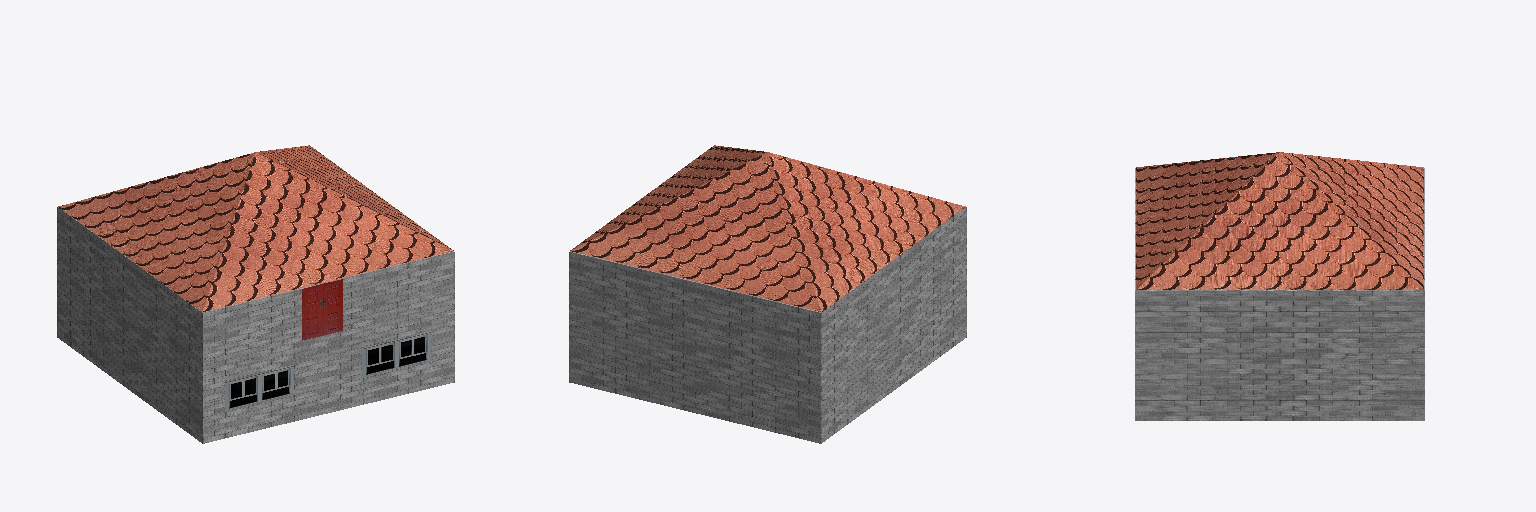
3 views of the same model, side by side, from view 1: azimuth 30°, elevation 25°; view 2: azimuth 150°, elevation 25°; view 3: azimuth 270°, elevation 25° (orthographic).
Visible parts, largest first — view 1: Box001, Pyramid001; view 2: Box001, Pyramid001; view 3: Box001, Pyramid001.
Boxes of the visible parts, x1,y1,x2,y2 form: Box001: [57, 206, 454, 443]; Pyramid001: [59, 145, 453, 311]; Box001: [569, 206, 966, 443]; Pyramid001: [570, 145, 964, 311]; Box001: [1135, 168, 1424, 420]; Pyramid001: [1136, 152, 1423, 289].
Size of the model in its own units: 141 by 111 by 141.
3 materials, 3 textured.